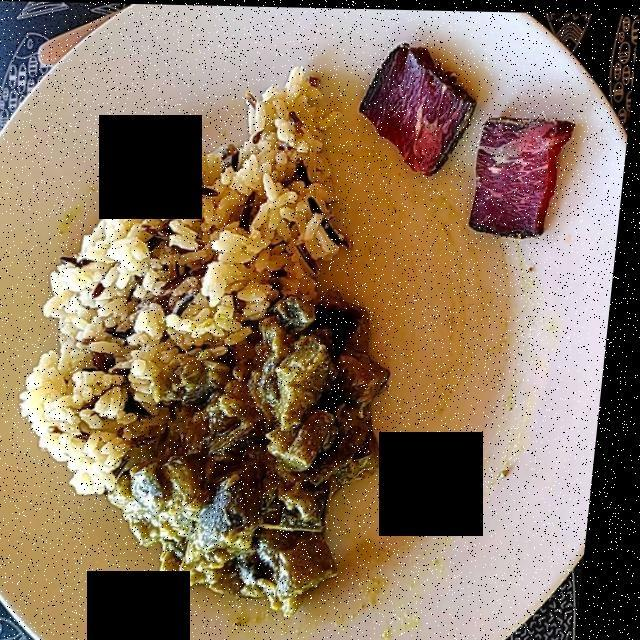dried-meat: (357, 41, 568, 245)
eggplant: (122, 302, 388, 599)
rice-wild: (35, 78, 338, 494)
